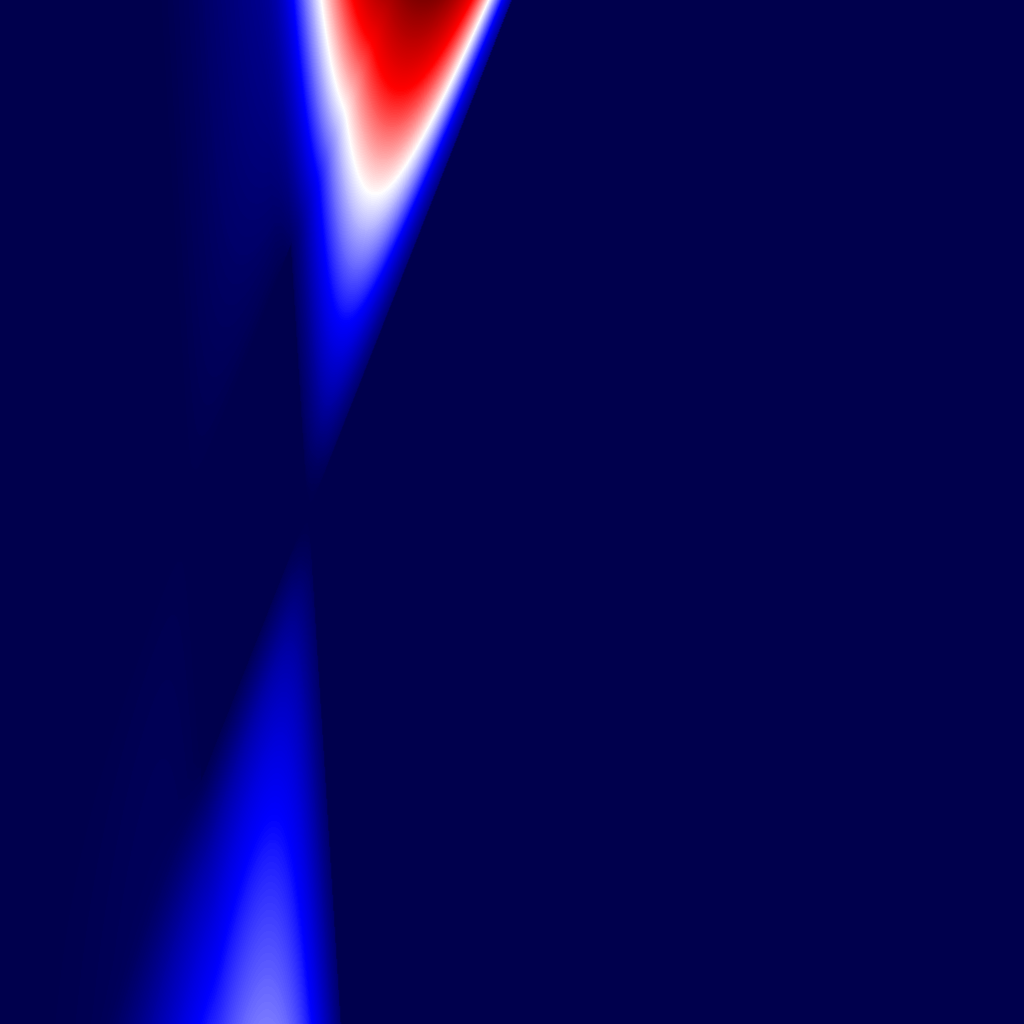diamond: (188, 242, 311, 782)
